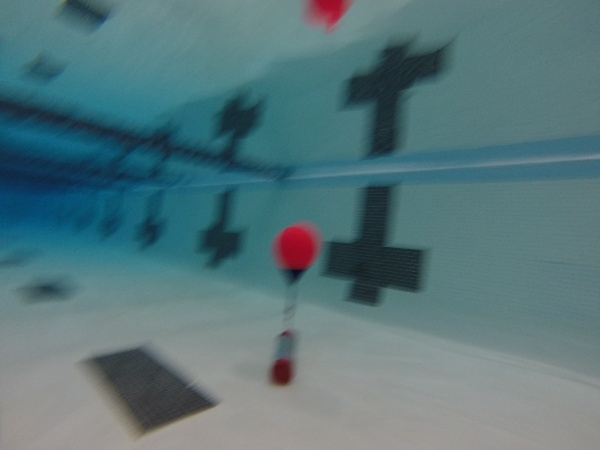buoy_red: (271, 224, 319, 284)
